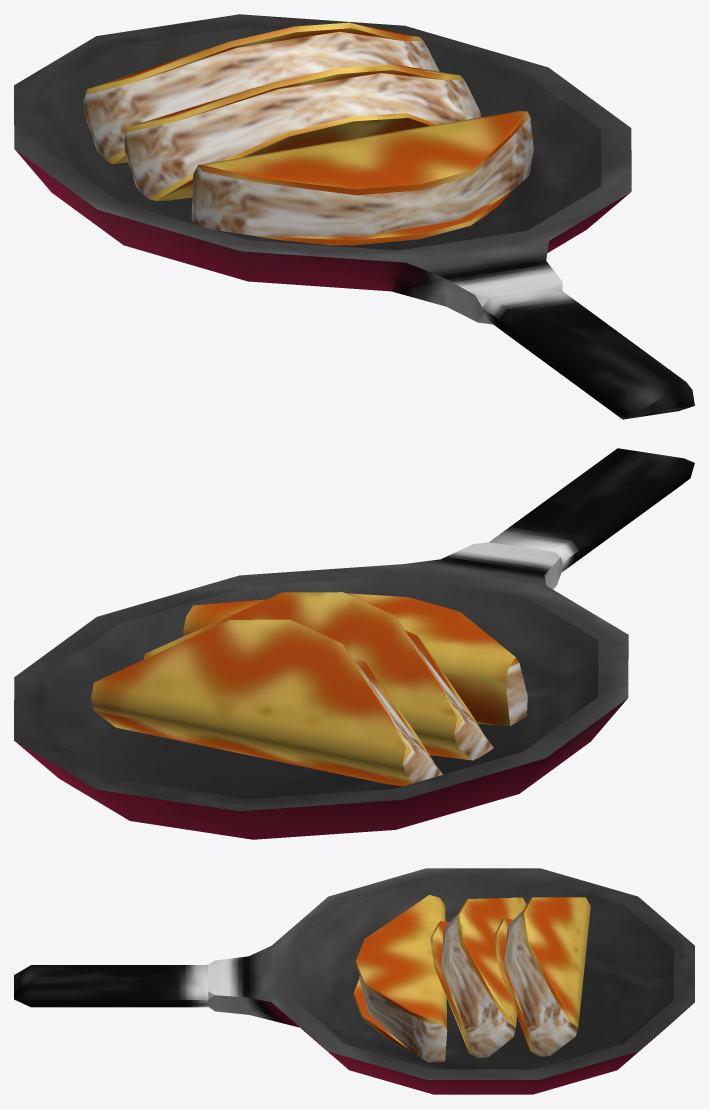
Rendered from AL_Enchiladas.fbx.
3 views of the same model, one above another, from view 1: azimuth 30°, elevation 25°; view 2: azimuth 150°, elevation 25°; view 3: azimuth 270°, elevation 25° (orthographic). The views are drawn at different scales.
Parts seen in each view (by area): view 1: Taco.002; view 2: Taco.002; view 3: Taco.002.
Boxes of the visible parts, x1,y1,x2,y2 form: Taco.002: (14, 14, 694, 419); Taco.002: (14, 448, 694, 839); Taco.002: (14, 868, 694, 1094).
Size of the model in its own units: 0.6984 by 0.1246 by 0.4325.
